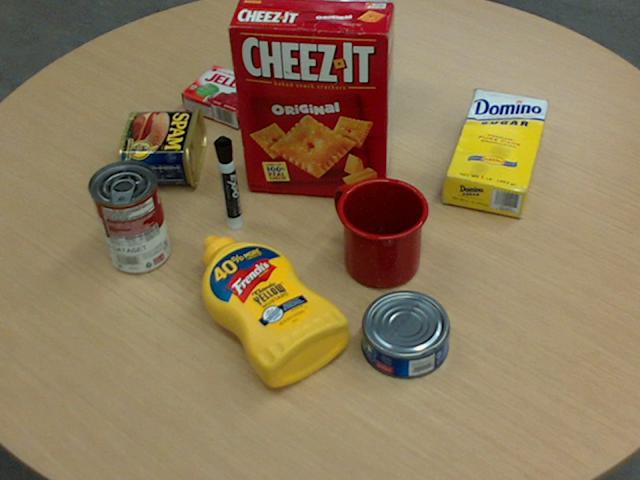cracker_box: (228, 0, 395, 197)
gelatin_box: (179, 63, 268, 127)
large_marker: (213, 136, 242, 230)
master_chef_can: (305, 0, 391, 126)
mug: (335, 176, 428, 287)
mustard_bottle: (200, 235, 349, 386)
potted_meat_can: (118, 107, 206, 185)
sugar_box: (443, 89, 548, 216)
tomato_soup_can: (87, 158, 168, 272)
tuna_fish_can: (361, 290, 450, 378)
